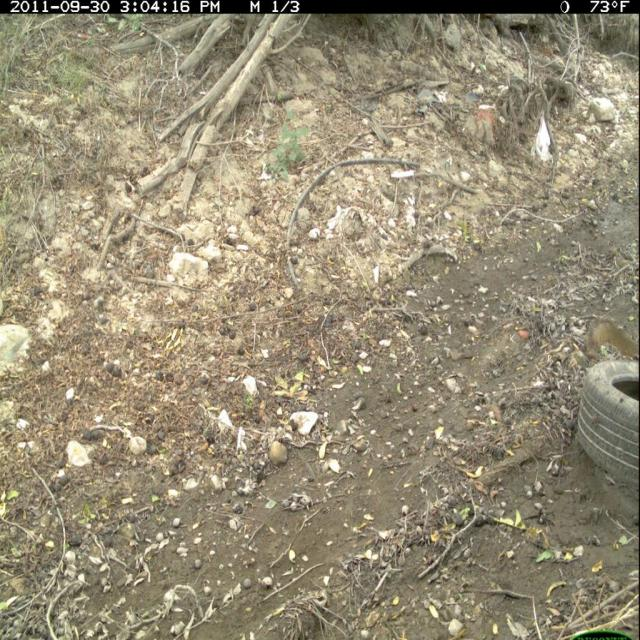squirrel: (583, 311, 640, 379)
